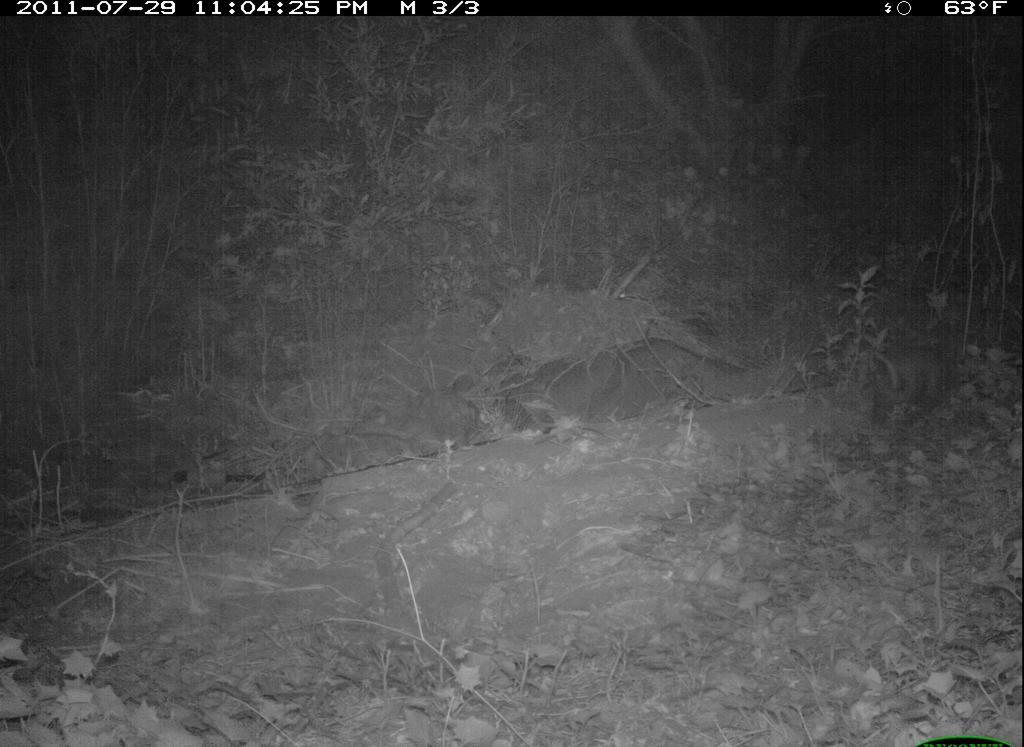opossum: (849, 331, 964, 435)
